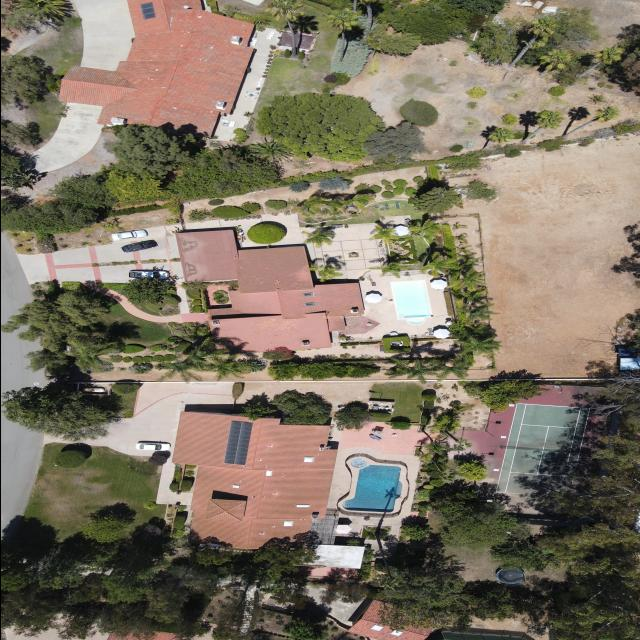solar-panels: (222, 419, 252, 467), (139, 2, 155, 20)
